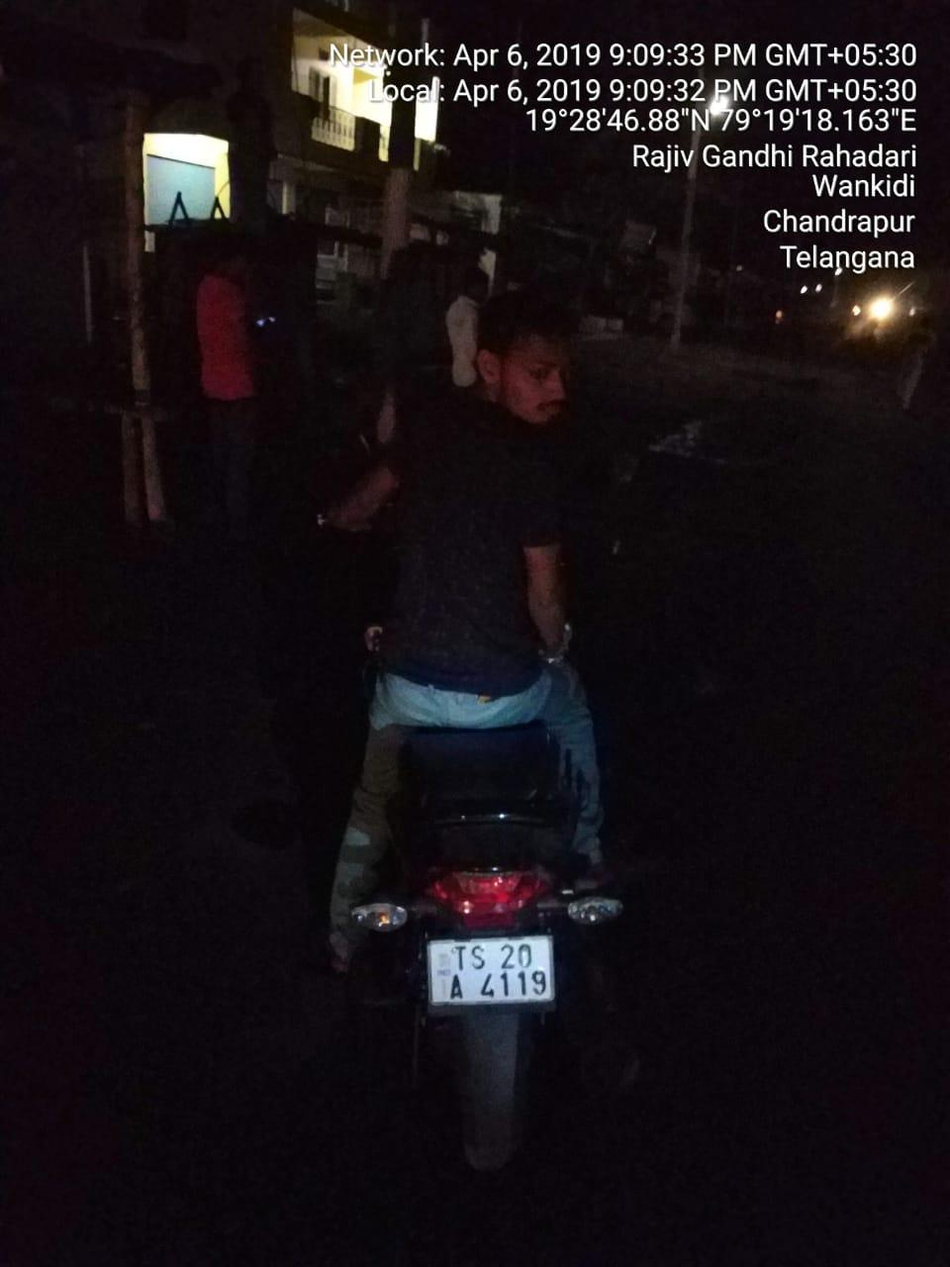plate: (411, 925, 599, 1035)
